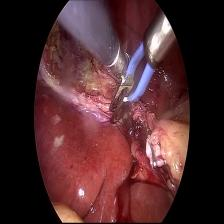Bipolar: (104, 41, 160, 130)
